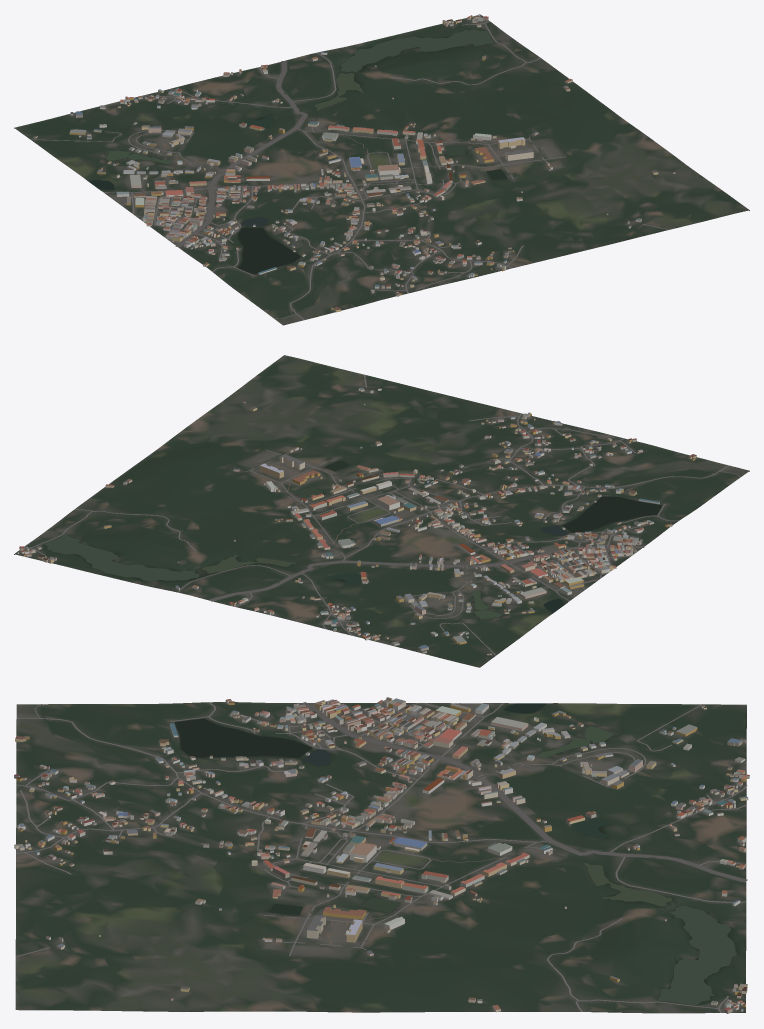
The picture shows the model from 3 angles, top to bottom: view 1: azimuth 30°, elevation 25°; view 2: azimuth 150°, elevation 25°; view 3: azimuth 270°, elevation 25°; orthographic projection. The views are drawn at different scales.
Parts seen in each view (by area): view 1: ground, buildings, water, roads; view 2: ground, buildings, water, roads; view 3: ground, buildings, water, roads.
Part boxes in pixels (x1,y1,x2,y2): ground: (14, 14, 749, 325); buildings: (33, 14, 675, 312); water: (89, 29, 506, 274); roads: (30, 21, 669, 320); ground: (14, 355, 749, 667); buildings: (17, 387, 696, 655); water: (44, 460, 661, 619); roads: (24, 374, 740, 655); ground: (15, 702, 746, 1013); buildings: (14, 697, 749, 1013); water: (174, 703, 736, 1005); roads: (15, 702, 747, 1012).
Bounding box in the file's own units: 1409 × 26.62 × 1413.
